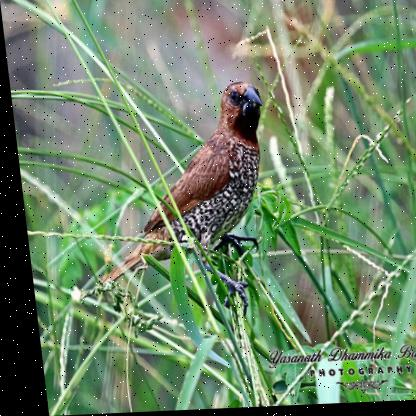Burung: (72, 84, 280, 323)
